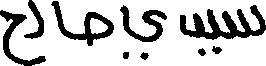X: (122, 0, 164, 64), (224, 0, 265, 43), (0, 5, 24, 65), (85, 7, 112, 50), (181, 8, 203, 60), (26, 0, 43, 65), (208, 4, 216, 58), (53, 0, 63, 39)
